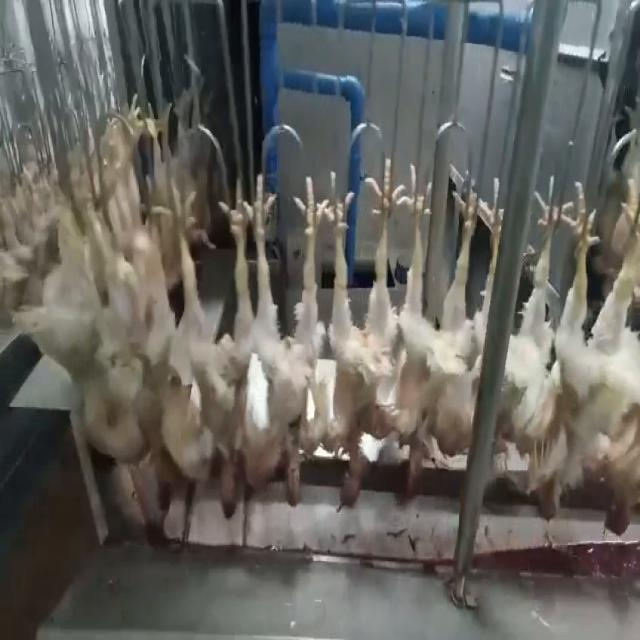chicken: (147, 175, 250, 522), (504, 172, 598, 524), (312, 157, 402, 508), (392, 161, 482, 510), (246, 164, 324, 504), (70, 173, 149, 483), (579, 146, 639, 537)
